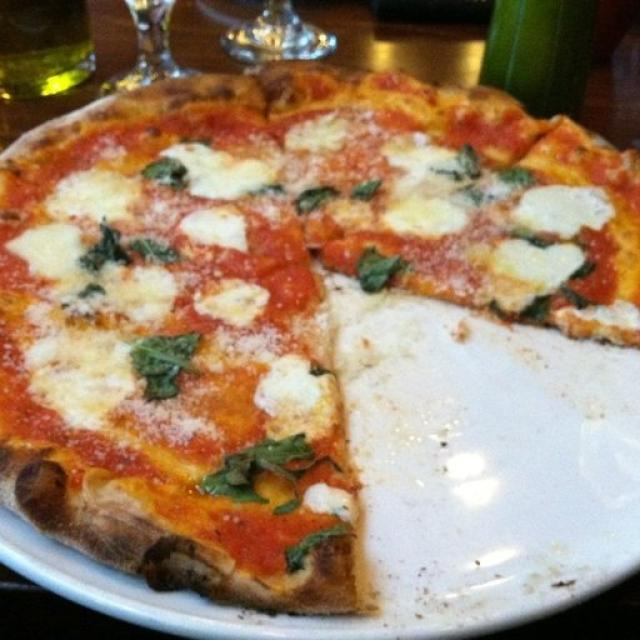Basil: (198, 431, 330, 511), (434, 141, 536, 206), (80, 213, 177, 278), (128, 331, 204, 404), (282, 525, 355, 577), (354, 241, 408, 293), (139, 153, 190, 197), (297, 181, 340, 218), (514, 292, 556, 320), (351, 178, 381, 200), (519, 229, 549, 249)
Cheese: (27, 335, 134, 420), (387, 131, 446, 238), (55, 278, 176, 326), (256, 356, 336, 424), (524, 186, 617, 236), (188, 143, 270, 196), (12, 219, 82, 280), (494, 240, 574, 292), (56, 167, 133, 217), (181, 208, 253, 252), (195, 279, 261, 322), (304, 484, 354, 519), (284, 120, 343, 149)
Pizza: (0, 62, 640, 618)
